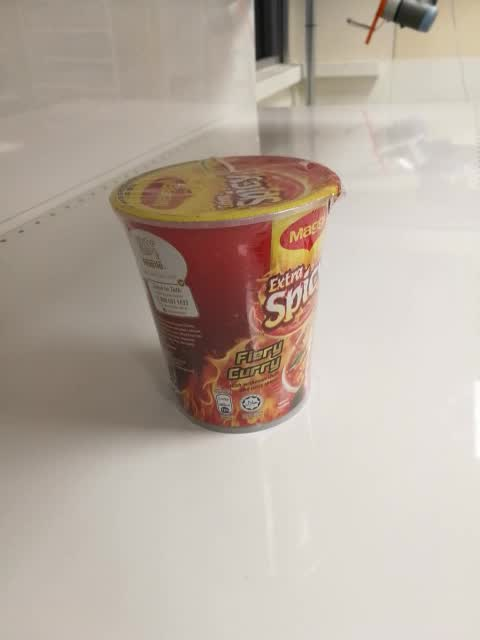maggi: (106, 154, 343, 436)
